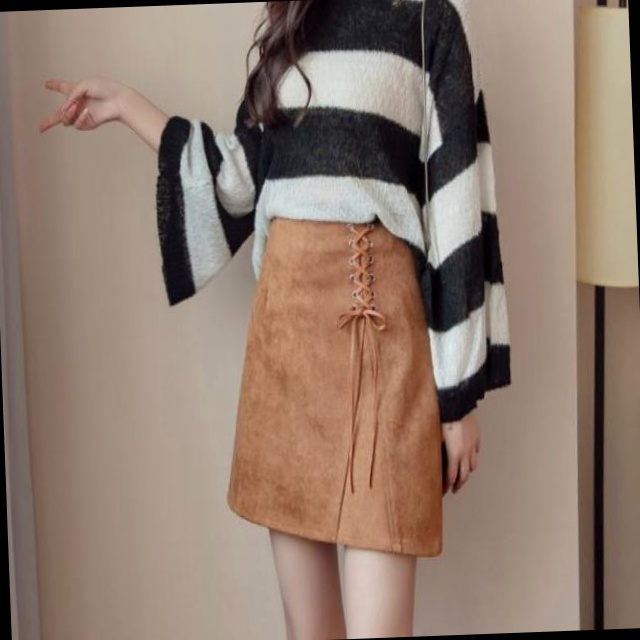Miniskirt: (214, 211, 450, 640)
